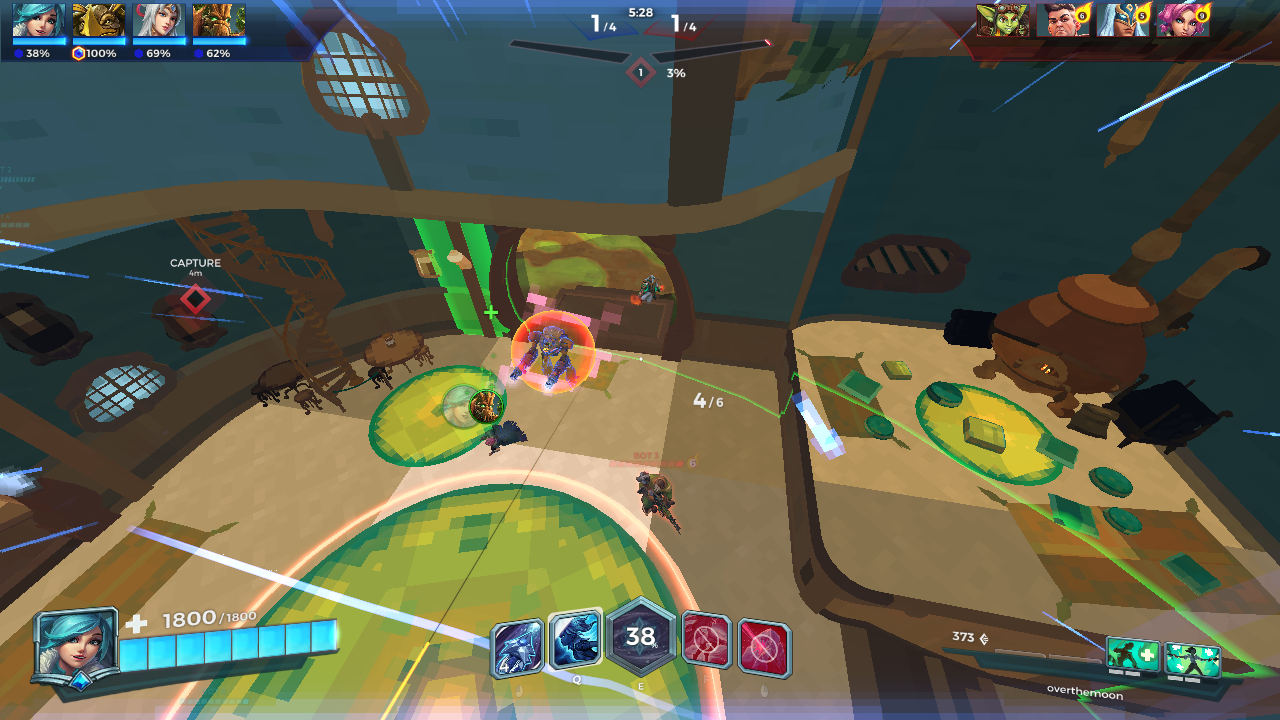model: (505, 318, 584, 389)
